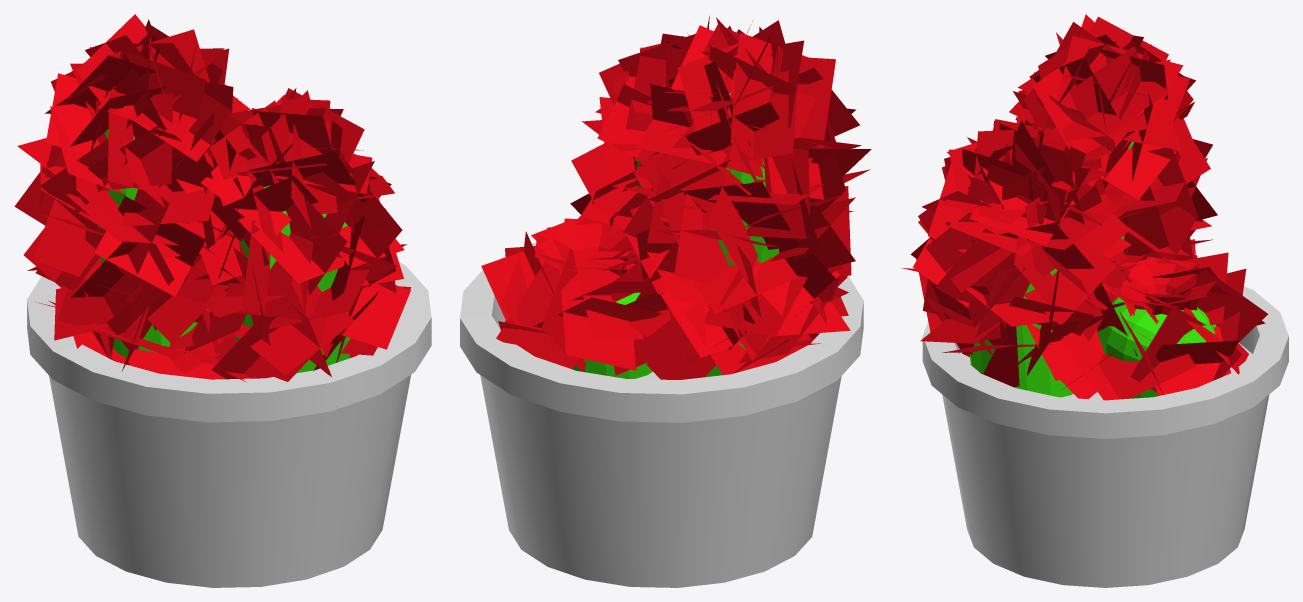
The model's file is cactus2.fbx.
The picture shows the model from 3 angles, left to right: view 1: azimuth 30°, elevation 25°; view 2: azimuth 150°, elevation 25°; view 3: azimuth 270°, elevation 25°; orthographic projection. The views are drawn at different scales.
Parts seen in each view (by area): view 1: cactus2; view 2: cactus2; view 3: cactus2.
Boxes of the visible parts, x1,y1,x2,y2 form: cactus2: [14, 14, 431, 587]; cactus2: [460, 16, 871, 587]; cactus2: [900, 14, 1288, 587].
Size of the model in its own units: 45.07 by 59.98 by 45.4.
